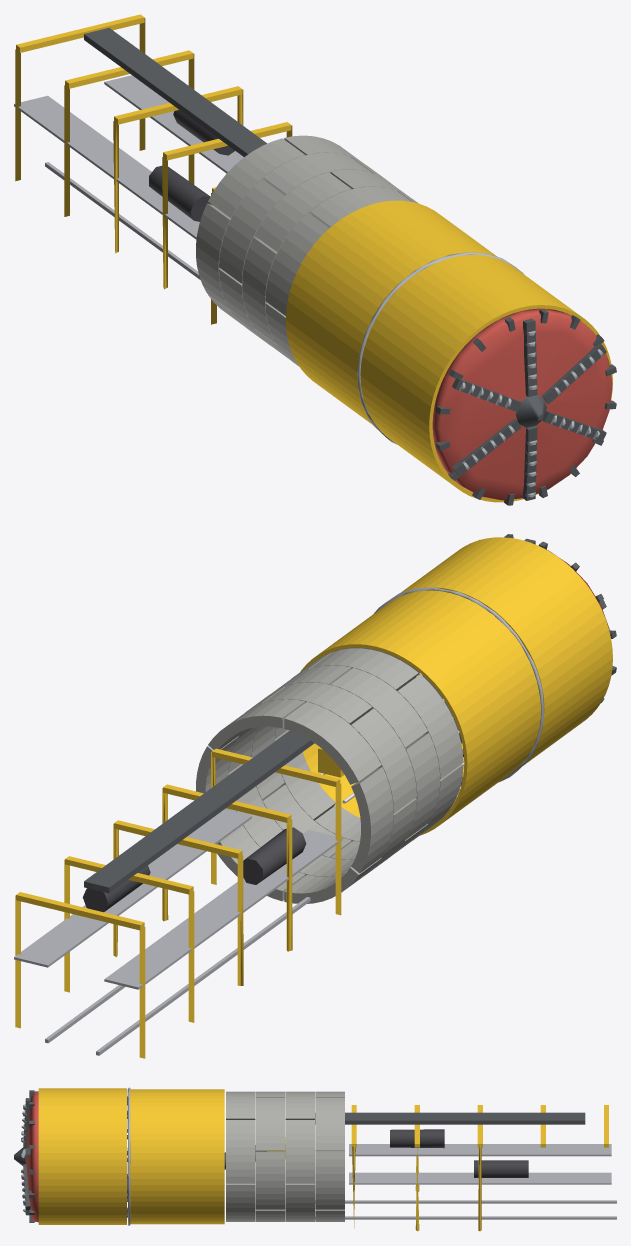
The model's file is lite.glb.
3 renders of one model, top to bottom at view 1: azimuth 30°, elevation 25°; view 2: azimuth 150°, elevation 25°; view 3: azimuth 270°, elevation 25°, orthographic. The views are drawn at different scales.
Parts seen in each view (by area): view 1: shield, cutterhead, backup-gantry, segment-rings; view 2: shield, segment-rings, backup-gantry; view 3: shield, segment-rings, backup-gantry, cutterhead.
Part boxes in pixels (left/top/right/bottom): shield: left=286, top=200, right=612, bottom=502; cutterhead: left=432, top=308, right=616, bottom=505; backup-gantry: left=14, top=14, right=292, bottom=324; segment-rings: left=196, top=135, right=418, bottom=366; shield: left=300, top=537, right=612, bottom=835; segment-rings: left=196, top=648, right=463, bottom=903; backup-gantry: left=14, top=730, right=342, bottom=1058; shield: left=38, top=1087, right=224, bottom=1225; segment-rings: left=226, top=1091, right=344, bottom=1221; backup-gantry: left=315, top=1105, right=616, bottom=1231; cutterhead: left=14, top=1090, right=38, bottom=1222.
Bounding box in the file's own units: 6.58 × 6.57 × 28.68.
